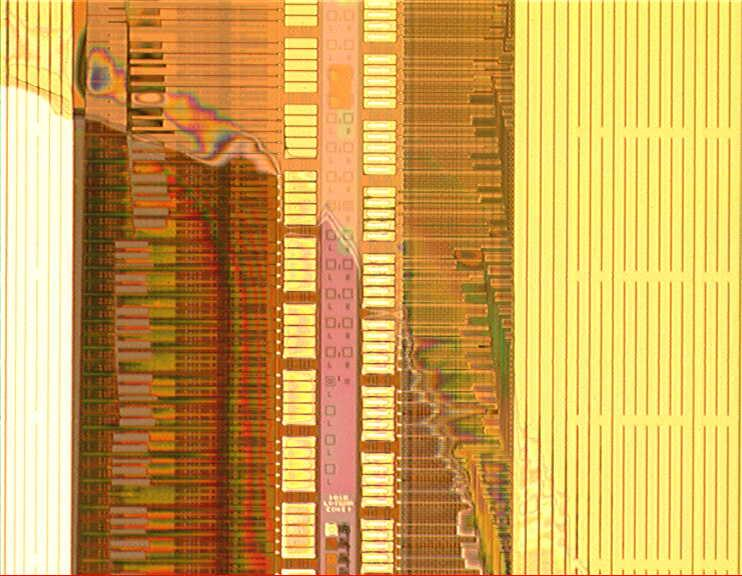COATING BAD: (1, 1, 586, 576)
